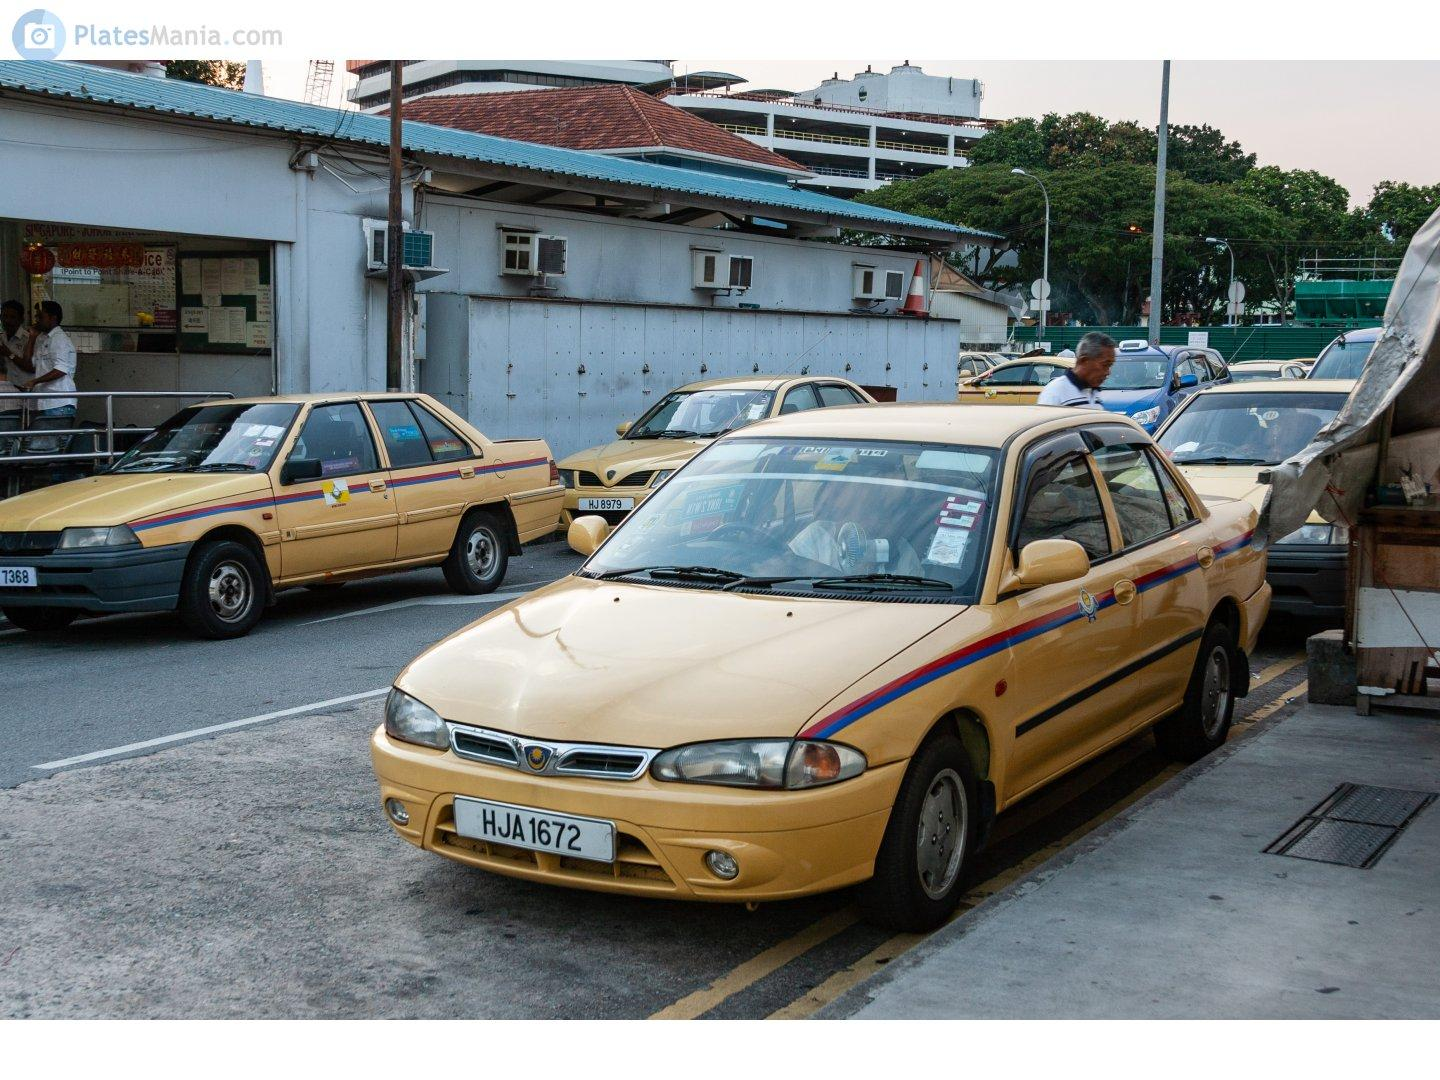License Plate: (456, 800, 618, 864)
